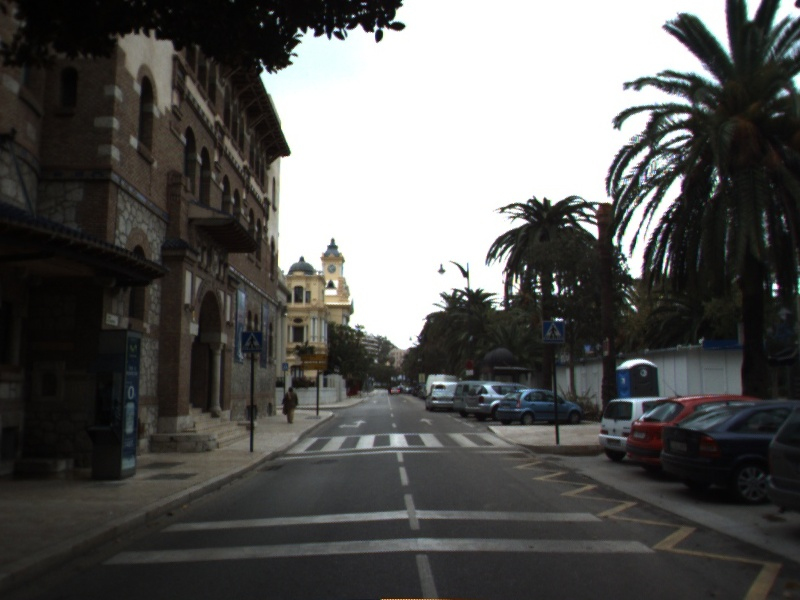STRAIGHT: (417, 415, 436, 427)
STRAIGHT_LEFT: (336, 418, 369, 431)
